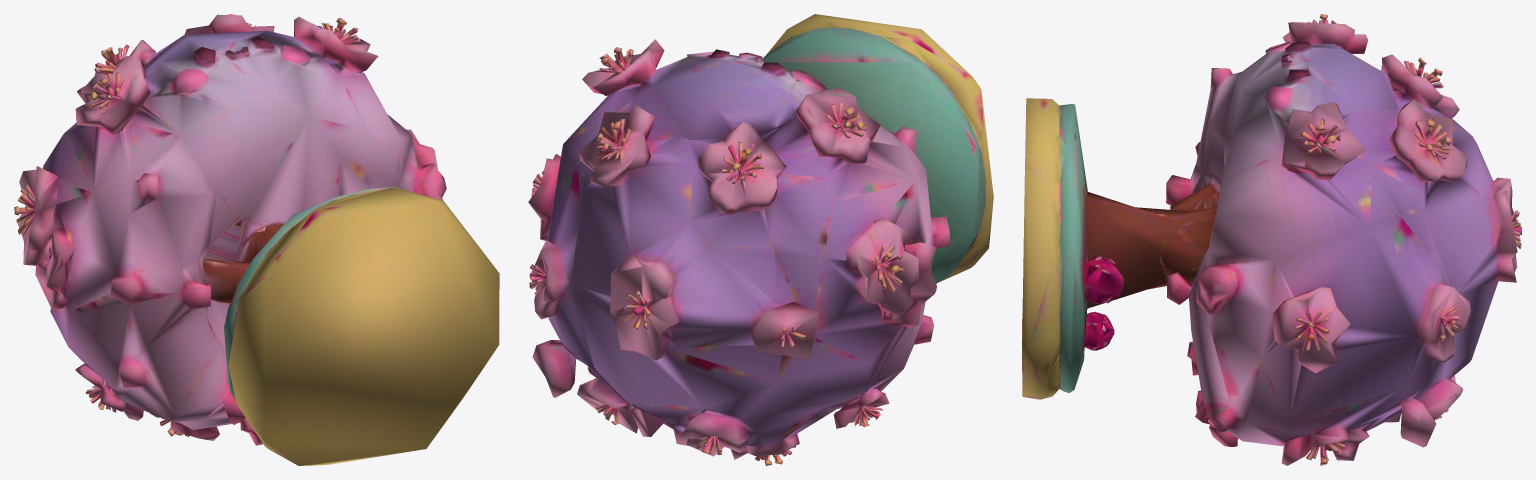
The picture shows the model from 3 angles, left to right: view 1: azimuth 30°, elevation 25°; view 2: azimuth 150°, elevation 25°; view 3: azimuth 270°, elevation 25°; orthographic projection.
Parts seen in each view (by area): view 1: material; view 2: material; view 3: material.
Boxes of the visible parts, box(x1,y1,x2,y2) form: material: box(14, 14, 499, 465); material: box(528, 14, 993, 465); material: box(1022, 14, 1521, 465).
Size of the model in its own units: 0.9186 by 0.8586 by 1.
1 material, 1 textured.
